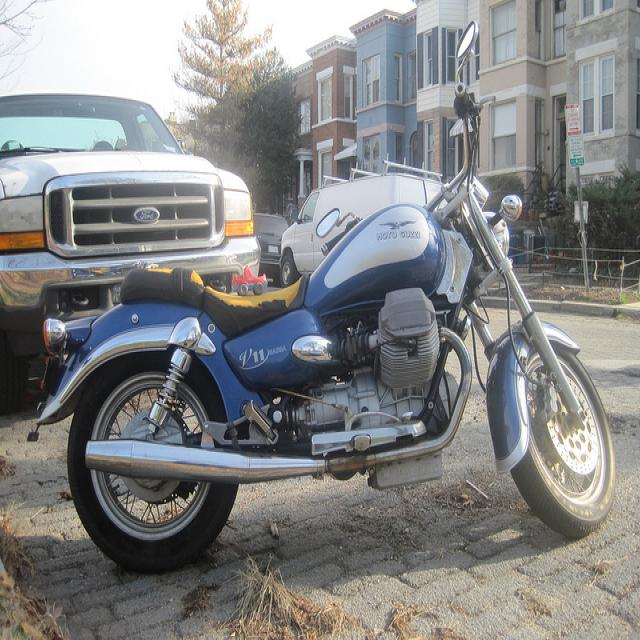motor: (29, 0, 620, 577)
